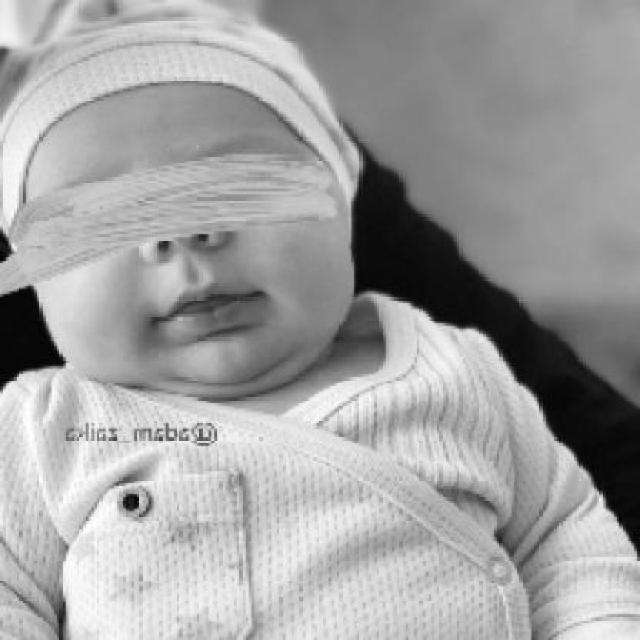child: (3, 5, 640, 638)
